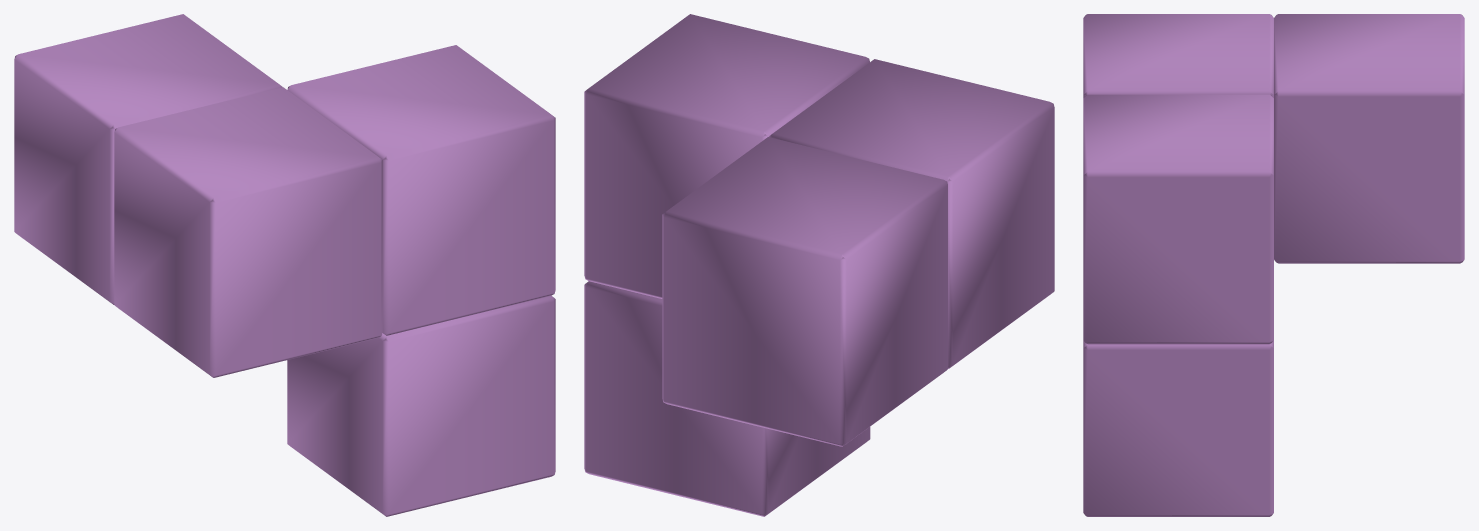
The model's file is purple_block_base_link.dae.
3 views of the same model, side by side, from view 1: azimuth 30°, elevation 25°; view 2: azimuth 150°, elevation 25°; view 3: azimuth 270°, elevation 25° (orthographic). The views are drawn at different scales.
Parts seen in each view (by area): view 1: root (×4); view 2: root (×4); view 3: root (×4).
Boxes of the visible parts, bbox=[...] form: root (×4): bbox=[14, 14, 555, 516]; root (×4): bbox=[584, 14, 1054, 516]; root (×4): bbox=[1083, 14, 1464, 516].
Bounding box in the file's own units: 0.06 × 0.06 × 0.06.
